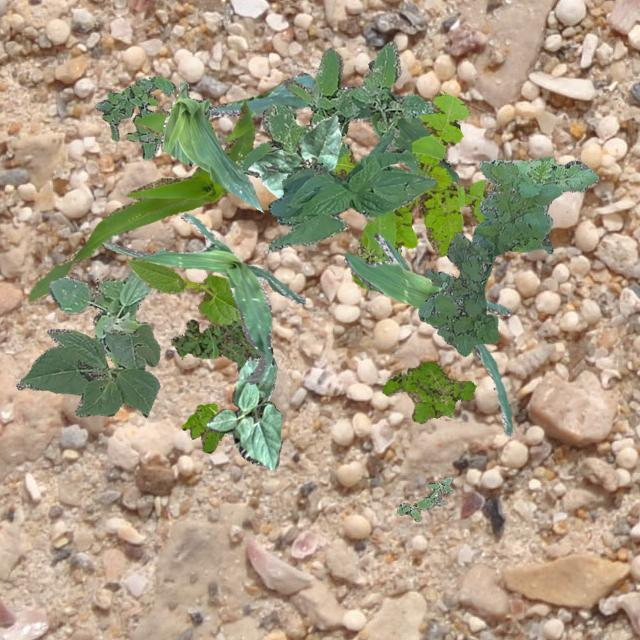crop: (28, 100, 254, 304), (103, 212, 304, 384), (344, 232, 512, 436), (207, 60, 458, 184), (268, 127, 436, 250), (15, 321, 160, 416), (159, 78, 261, 210), (206, 342, 282, 468), (247, 114, 341, 198), (126, 258, 242, 326)
weed: (418, 156, 598, 356), (332, 90, 490, 290), (238, 41, 432, 176), (47, 246, 166, 368), (94, 75, 174, 158), (382, 360, 474, 422), (170, 318, 260, 366), (396, 476, 452, 520), (180, 402, 223, 452), (359, 246, 406, 264)
